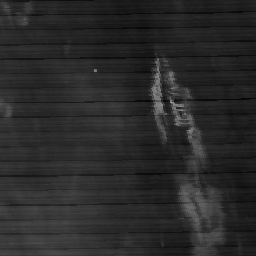Target: (92, 68, 98, 73)
